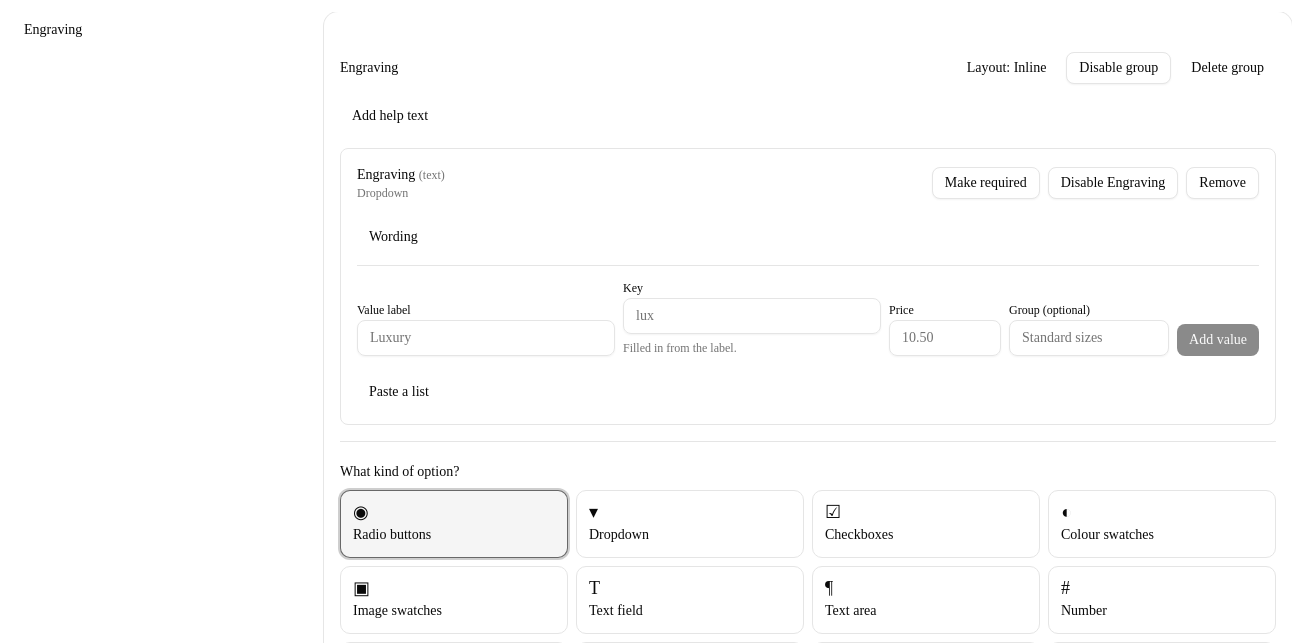
option wording › still offers help text on a choice option
The image size is (1292, 643).
Step 1. Click the button "Wording" → (393, 237), box [357,221,430,253]
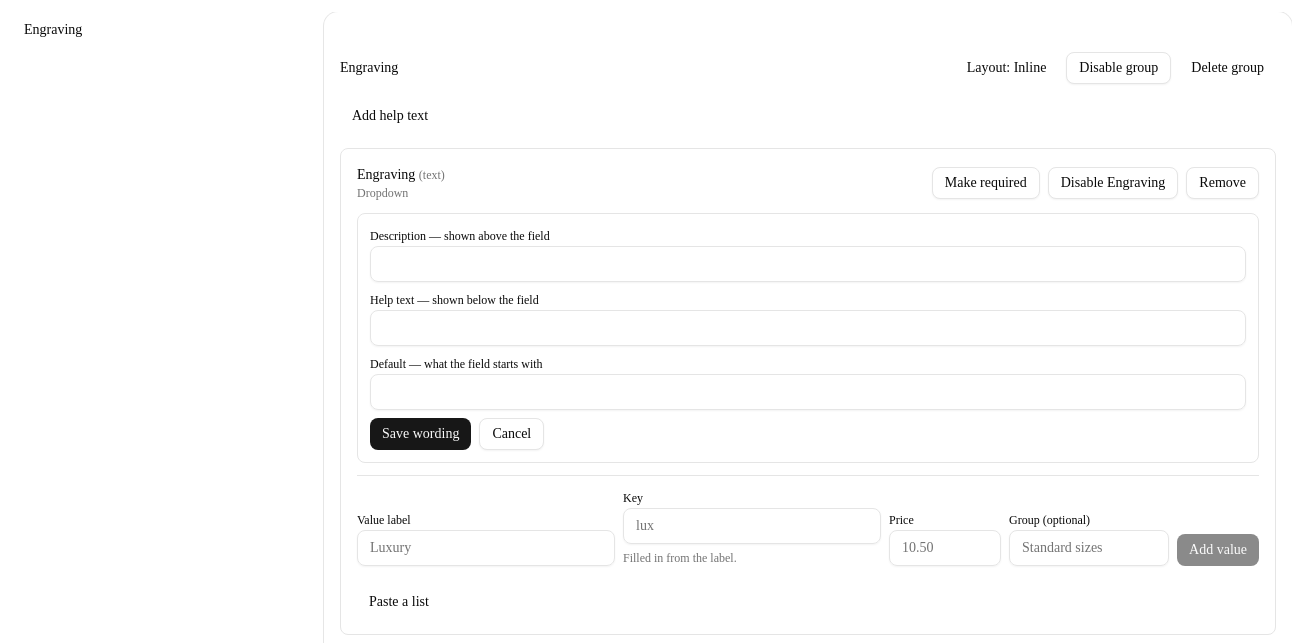
Result: the field labelled "Help text — shown below the field" is shown at [370,310,1246,346]
